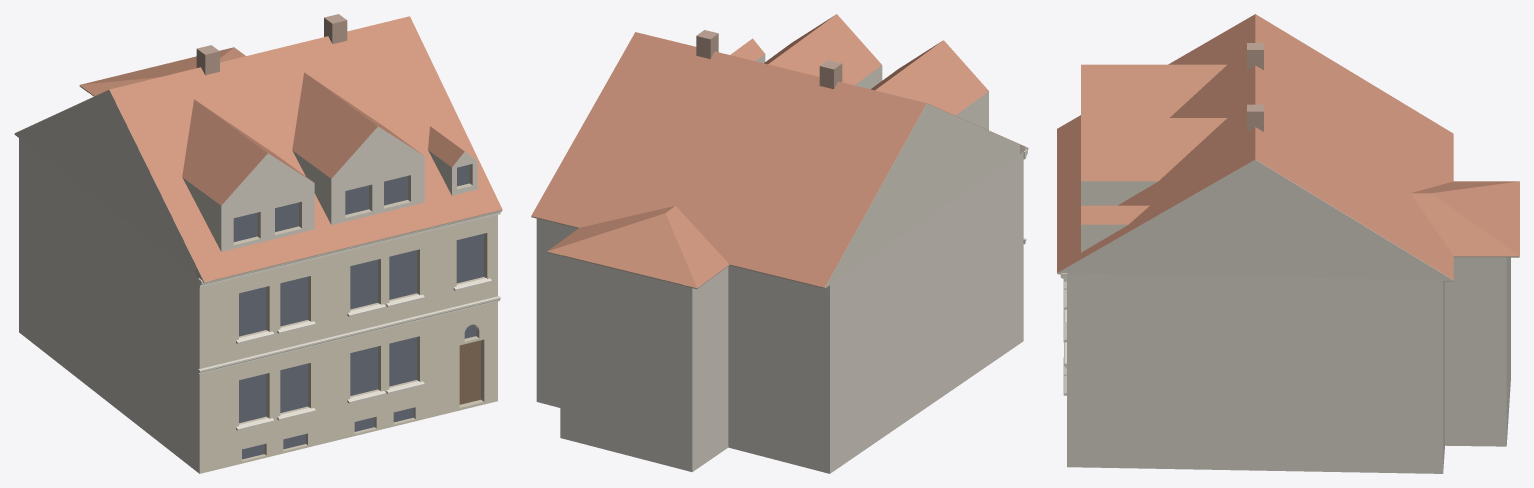
3 views of the same model, side by side, from view 1: azimuth 30°, elevation 25°; view 2: azimuth 150°, elevation 25°; view 3: azimuth 270°, elevation 25° (orthographic). The views are drawn at different scales.
Parts seen in each view (by area): view 1: CP_1608_Masonry, CP_1608_Roof, CP_1608_Dormer_dormer1, CP_1608_Dormer_dormer2, CP_1608_Gable_L_gable, CP_1608_Dormer_dormer3, CP_1608_Cornice_string_0, CP_1608_WingRoof_Rear_Wing, CP_1608_Cornice_eave_0, CP_1608_Chimney_1, CP_1608_Chimney_0, CP_1608_Roof_EaveClosure_0; view 2: CP_1608_Masonry, CP_1608_Roof, CP_1608_Gable_L_gable, CP_1608_WingRoof_Rear_Wing, CP_1608_Dormer_dormer1, CP_1608_Dormer_dormer2, CP_1608_Chimney_0, CP_1608_Chimney_1; view 3: CP_1608_Masonry, CP_1608_Roof, CP_1608_Gable_R_gable, CP_1608_Dormer_dormer2, CP_1608_WingRoof_Rear_Wing, CP_1608_Dormer_dormer1, CP_1608_Dormer_dormer3.
Boxes of the visible parts, <box> form: CP_1608_Masonry: <box>19,137,497,473</box>; CP_1608_Roof: <box>16,16,502,281</box>; CP_1608_Dormer_dormer1: <box>182,99,314,251</box>; CP_1608_Dormer_dormer2: <box>292,72,424,224</box>; CP_1608_Gable_L_gable: <box>14,90,211,282</box>; CP_1608_Dormer_dormer3: <box>428,126,477,195</box>; CP_1608_Cornice_string_0: <box>198,296,500,374</box>; CP_1608_WingRoof_Rear_Wing: <box>80,47,245,95</box>; CP_1608_Cornice_eave_0: <box>198,207,502,287</box>; CP_1608_Chimney_1: <box>324,14,347,44</box>; CP_1608_Chimney_0: <box>196,45,219,75</box>; CP_1608_Roof_EaveClosure_0: <box>196,209,502,283</box>; CP_1608_Masonry: <box>536,152,1023,473</box>; CP_1608_Roof: <box>531,32,1027,287</box>; CP_1608_Gable_L_gable: <box>818,103,1028,287</box>; CP_1608_WingRoof_Rear_Wing: <box>547,206,729,287</box>; CP_1608_Dormer_dormer1: <box>871,40,988,130</box>; CP_1608_Dormer_dormer2: <box>764,14,882,89</box>; CP_1608_Chimney_0: <box>819,60,842,89</box>; CP_1608_Chimney_1: <box>696,30,718,59</box>; CP_1608_Masonry: <box>1067,257,1510,473</box>; CP_1608_Roof: <box>1057,14,1453,279</box>; CP_1608_Gable_R_gable: <box>1057,159,1453,280</box>; CP_1608_Dormer_dormer2: <box>1081,118,1226,205</box>; CP_1608_WingRoof_Rear_Wing: <box>1411,181,1519,256</box>; CP_1608_Dormer_dormer1: <box>1081,64,1226,117</box>; CP_1608_Dormer_dormer3: <box>1081,205,1149,252</box>.
Size of the model in its own units: 12.78 by 12.8 by 16.45.
